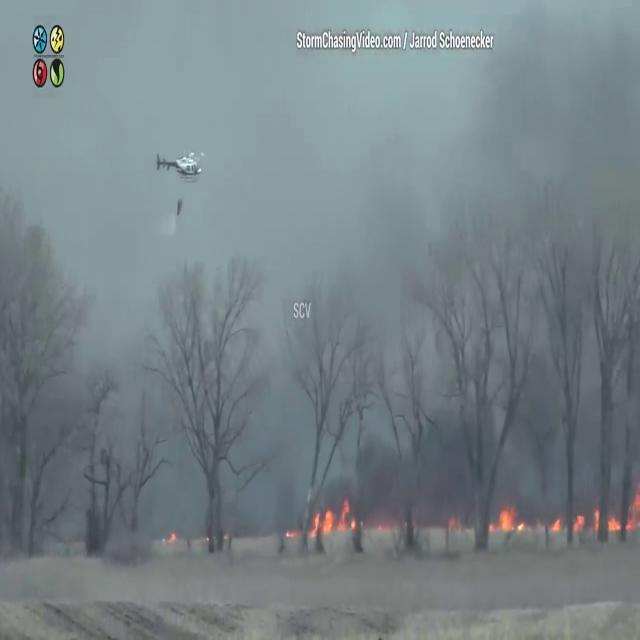Fire: (485, 494, 638, 543), (304, 491, 358, 538)
Smoke: (5, 0, 640, 564)
